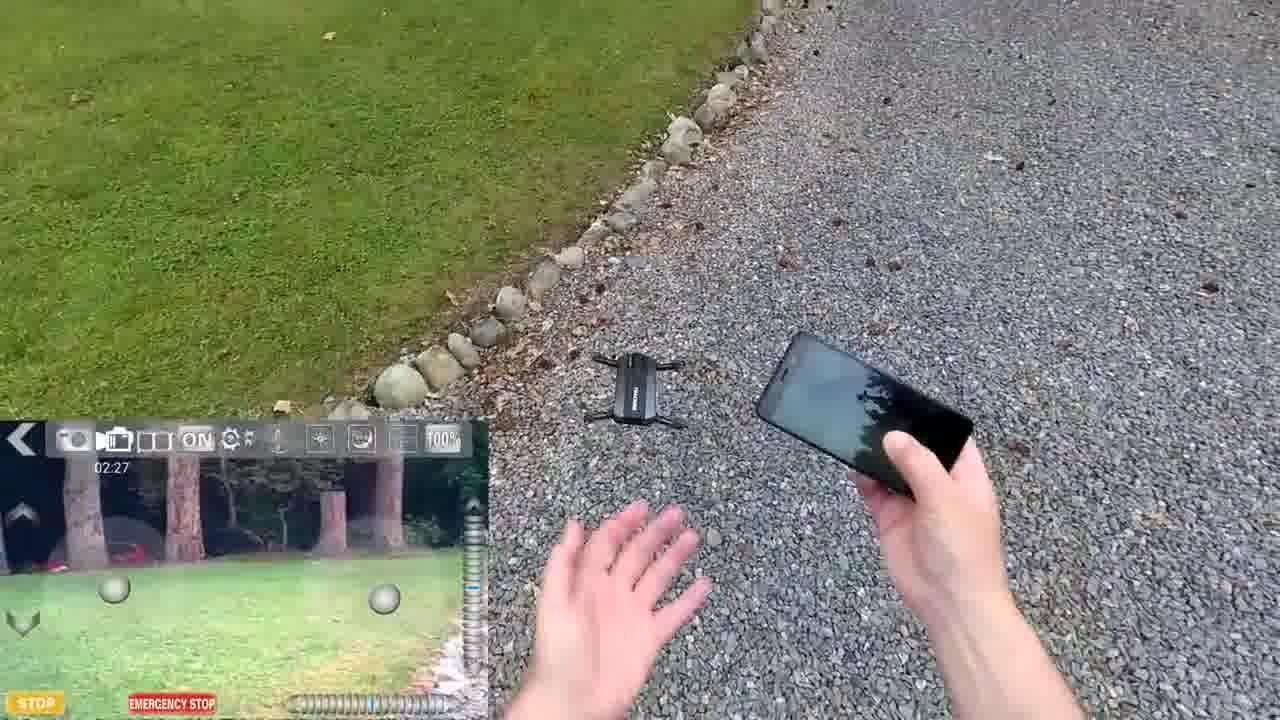drone: (551, 322, 708, 446)
